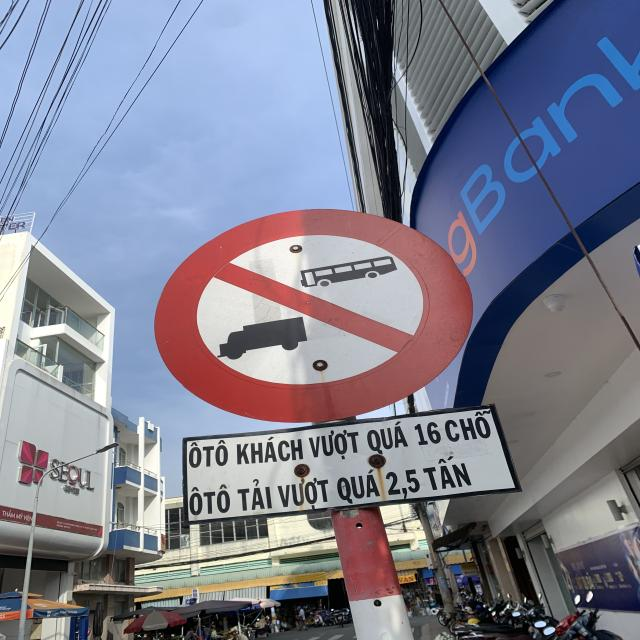Cam_XeTai_XeKhach: (151, 205, 475, 426)
